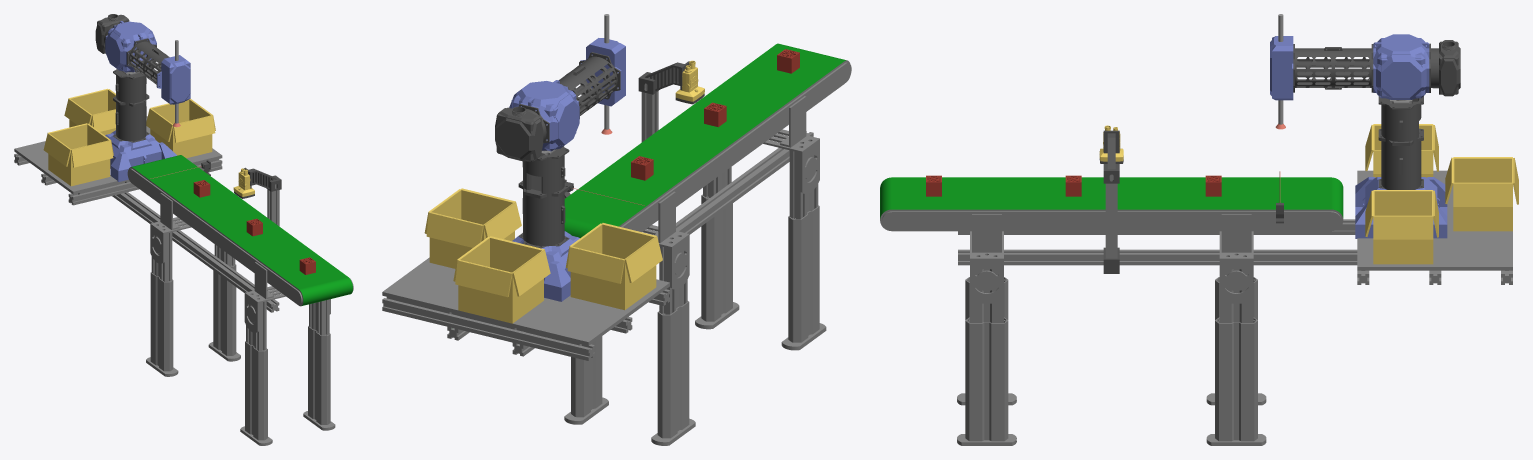
The model's file is Fyp_Conveyor.glb.
The picture shows the model from 3 angles, left to right: view 1: azimuth 30°, elevation 25°; view 2: azimuth 150°, elevation 25°; view 3: azimuth 270°, elevation 25°; orthographic projection. The views are drawn at different scales.
Visible parts, largest first — view 1: Body1, Body5.002, Body5.004, Body5.003, Body1.009, Body1.014, Body14, Body4.001, Body16, Body11, Body1.001, Body5.001 (+5 smaller); view 2: Body1, Body1.009, Body5.002, Body5.003, Body5.004, Body3, Body1.013, Body14.001, Body16, Body7, Body4.006, Body4.005 (+11 smaller); view 3: Body1, Body5.004, Body5.003, Body1.009, Body16.001, Body4.004, Body1.013, Body1.014, Body5.002, Body1.016, Body14, Body14.001 (+5 smaller).
Boxes of the visible parts, x1,y1,x2,y2 form: Body1: (112,155,353,445); Body5.002: (43,123,113,186); Body5.004: (146,98,215,158); Body5.003: (64,89,115,135); Body1.009: (14,116,222,194); Body1.014: (157,55,190,104); Body14: (116,97,149,142); Body4.001: (110,138,145,181); Body16: (127,40,164,86); Body11: (116,72,149,105); Body1.001: (68,159,222,205); Body5.001: (140,134,176,163); Body1: (447,43,851,445); Body1.009: (382,257,669,345); Body5.002: (565,223,662,310); Body5.003: (453,236,550,323); Body5.004: (424,188,521,268); Body3: (382,297,594,360); Body1.013: (495,104,549,161); Body14.001: (518,186,564,248); Body16: (562,54,620,118); Body7: (518,151,564,197); Body4.006: (455,260,512,297); Body4.005: (567,247,624,283); Body1: (880,177,1357,445); Body5.004: (1365,190,1433,264); Body5.003: (1445,157,1512,231); Body1.009: (1357,170,1512,270); Body16.001: (1293,47,1373,92); Body4.004: (1380,55,1422,97); Body1.013: (1429,40,1460,96); Body1.014: (1270,36,1293,100); Body5.002: (1365,124,1433,177); Body1.016: (1373,43,1429,99); Body14: (1378,139,1401,189); Body14.001: (1401,139,1423,189).
Size of the model in its own units: 0.5737 by 1.12 by 1.6.
